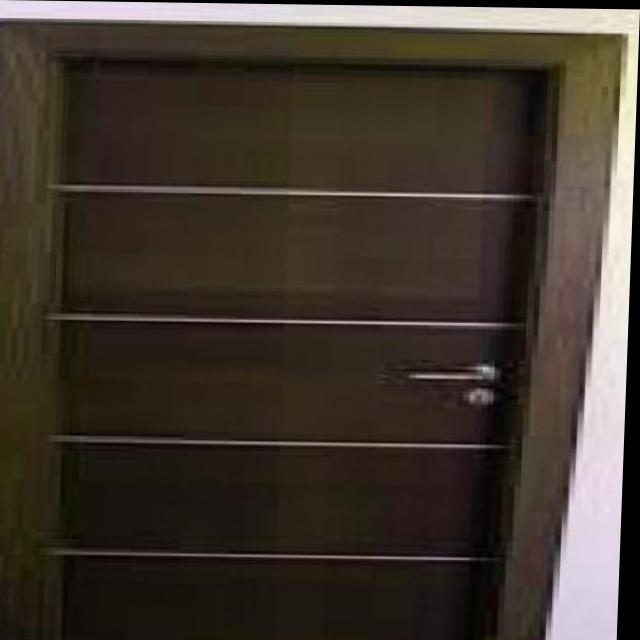door_handle: (408, 362, 508, 391)
